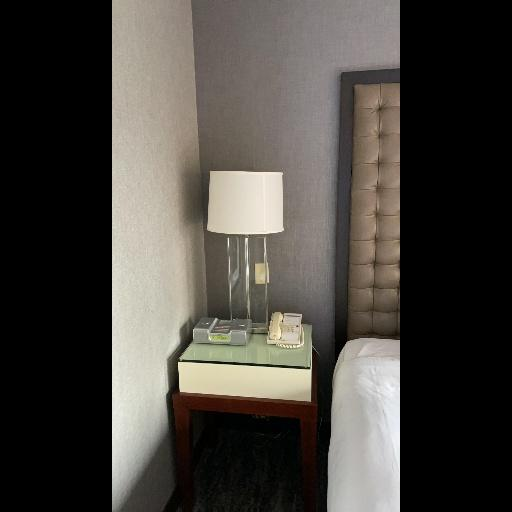lamp: (204, 166, 290, 334)
organized table: (167, 307, 313, 500)
